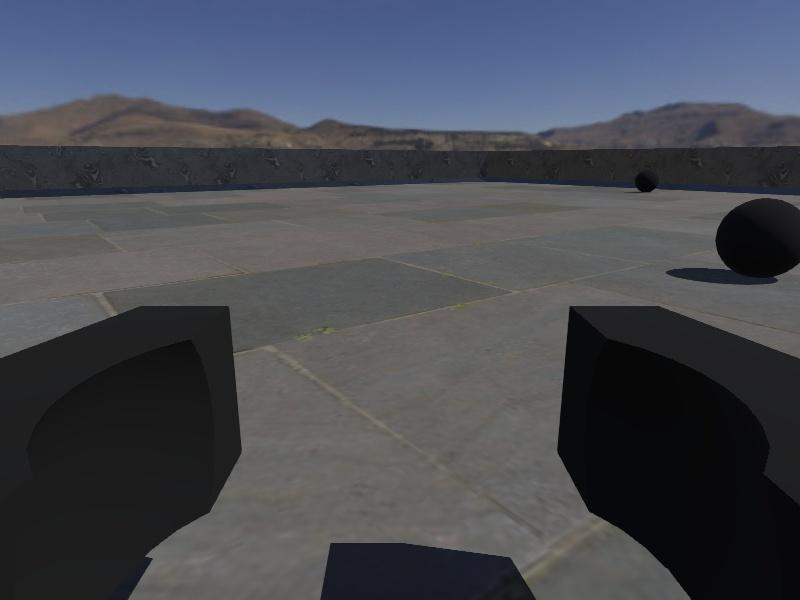black ball: (715, 197, 800, 278), (633, 167, 660, 193)
